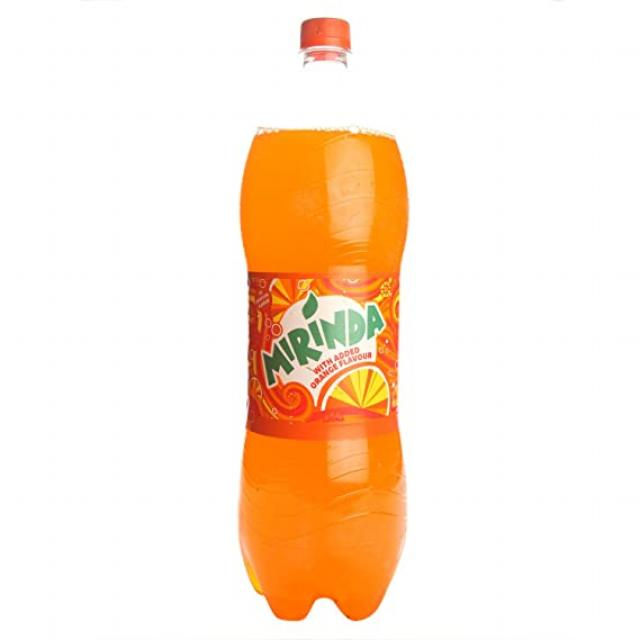Soda: (237, 15, 411, 624)
